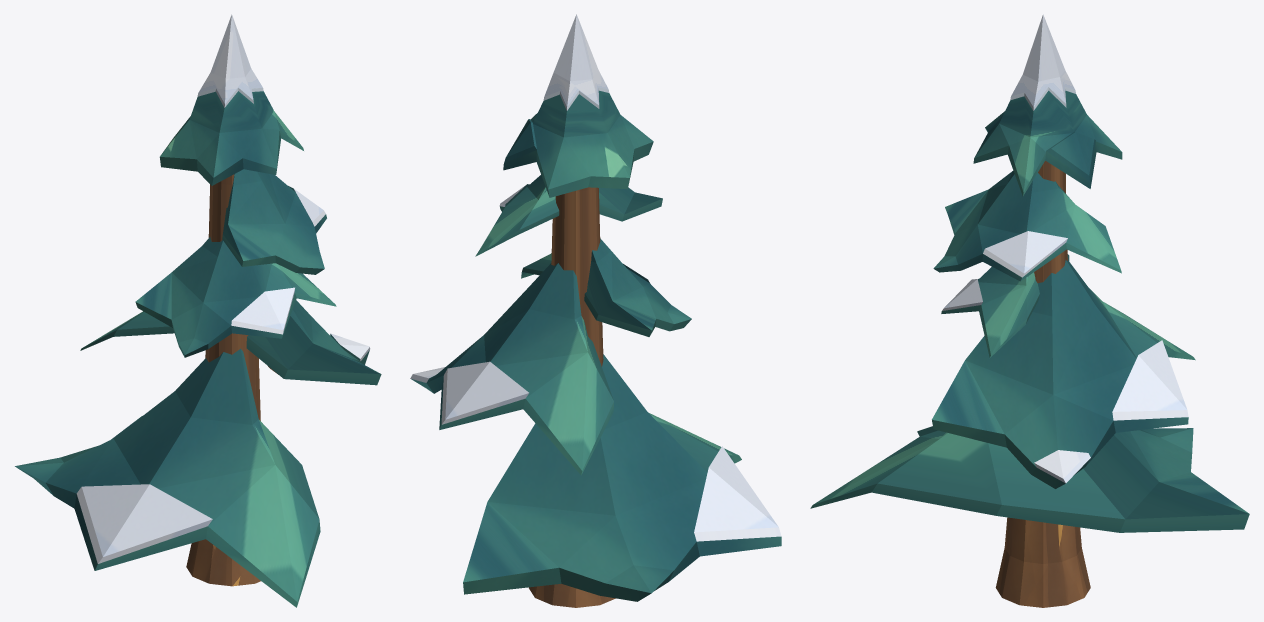
Rendered from Tree_2.fbx.
3 views of the same model, side by side, from view 1: azimuth 30°, elevation 25°; view 2: azimuth 150°, elevation 25°; view 3: azimuth 270°, elevation 25° (orthographic). The views are drawn at different scales.
Visible parts, largest first — view 1: Tree02; view 2: Tree02; view 3: Tree02.
Boxes of the visible parts, x1=… form: Tree02: x1=15, y1=14, x2=381, y2=607; Tree02: x1=410, y1=14, x2=781, y2=607; Tree02: x1=810, y1=14, x2=1249, y2=607.
Size of the model in its own units: 2.99 by 4.99 by 3.47.
